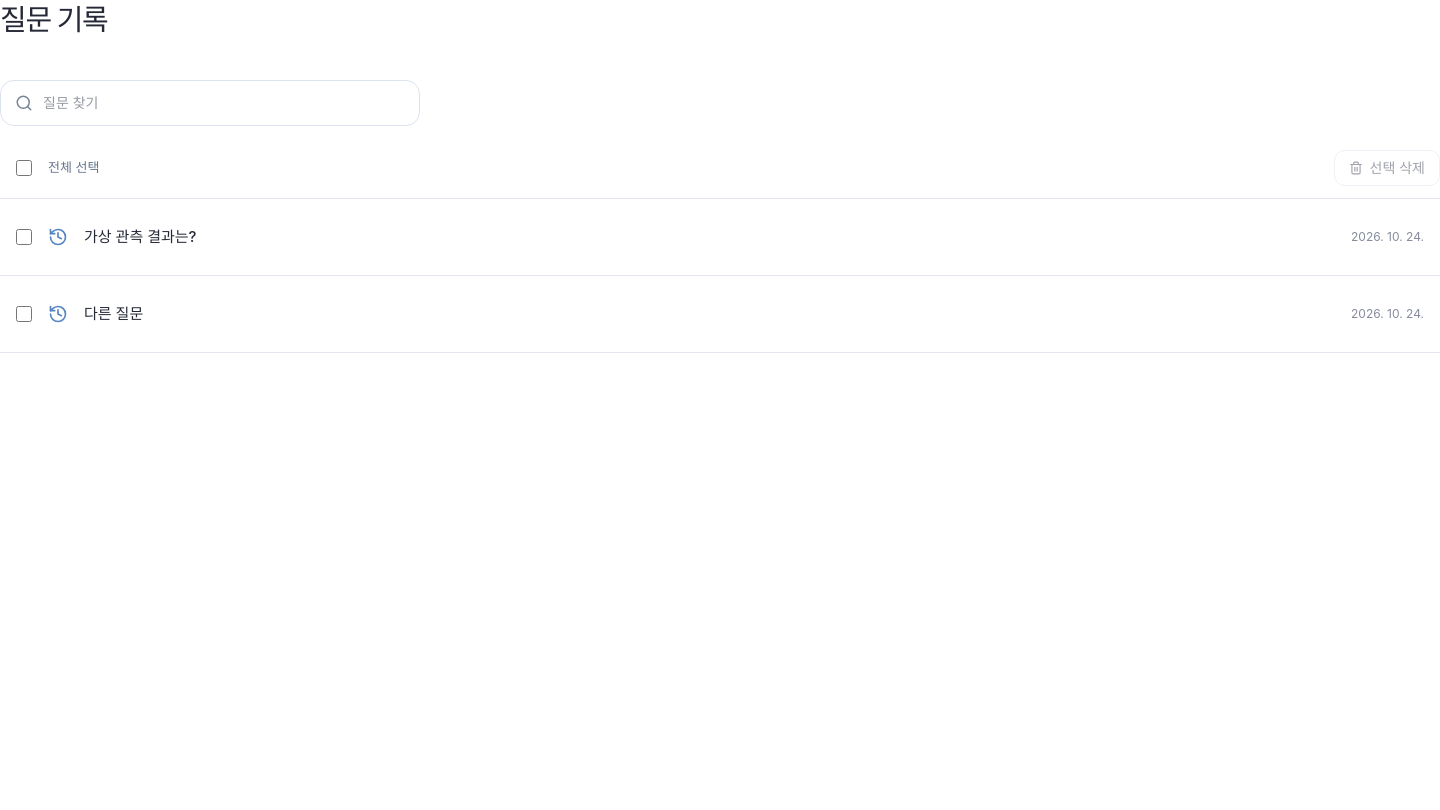
it: 표시된 질문을 체크박스로 함께 삭제하고 실패 항목만 재시도한다
Click the checkbox named "표시된 질문 전체 선택" at (24, 168), box [16, 160, 32, 176]
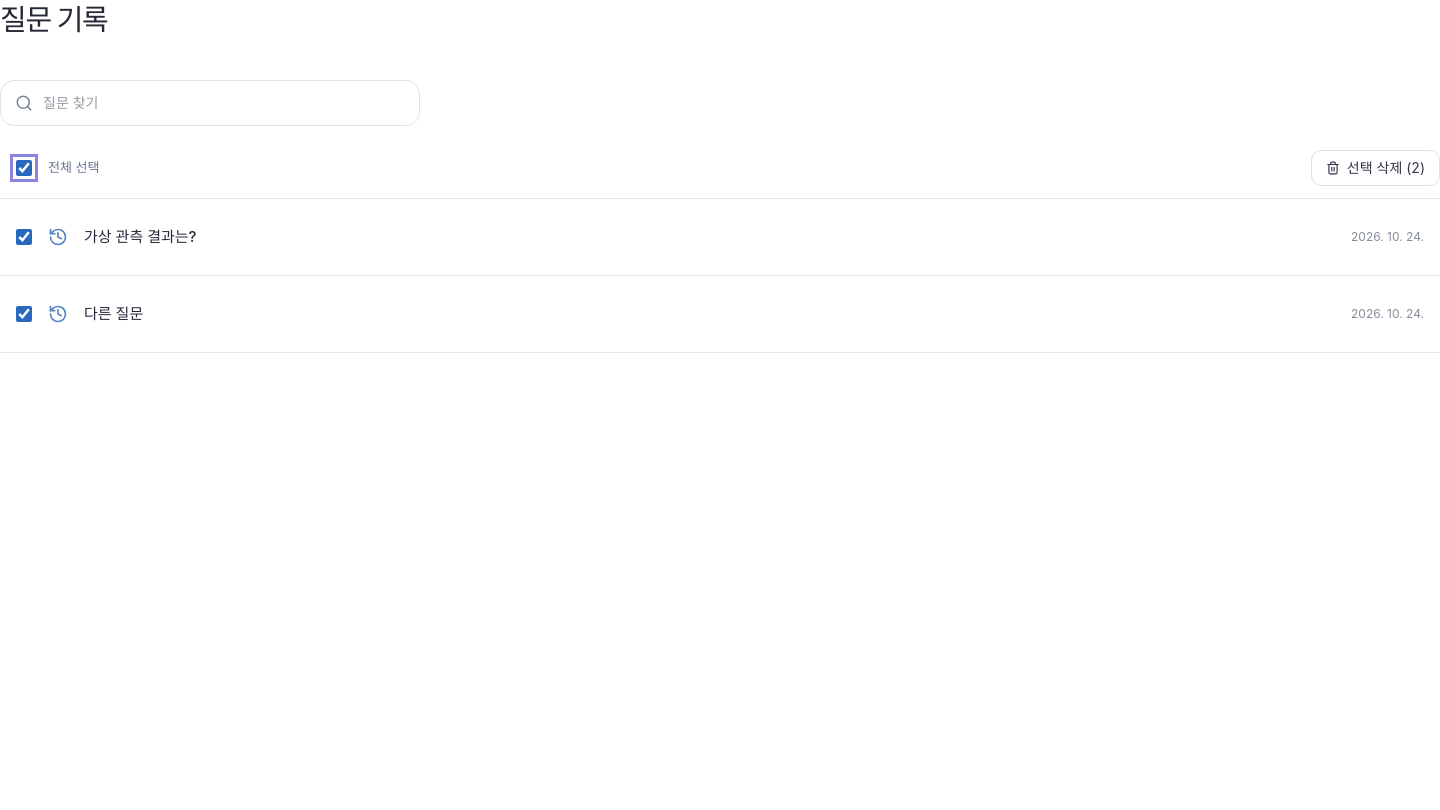
Click the button "선택 삭제 (2)" at (1375, 168), box [1311, 150, 1439, 186]
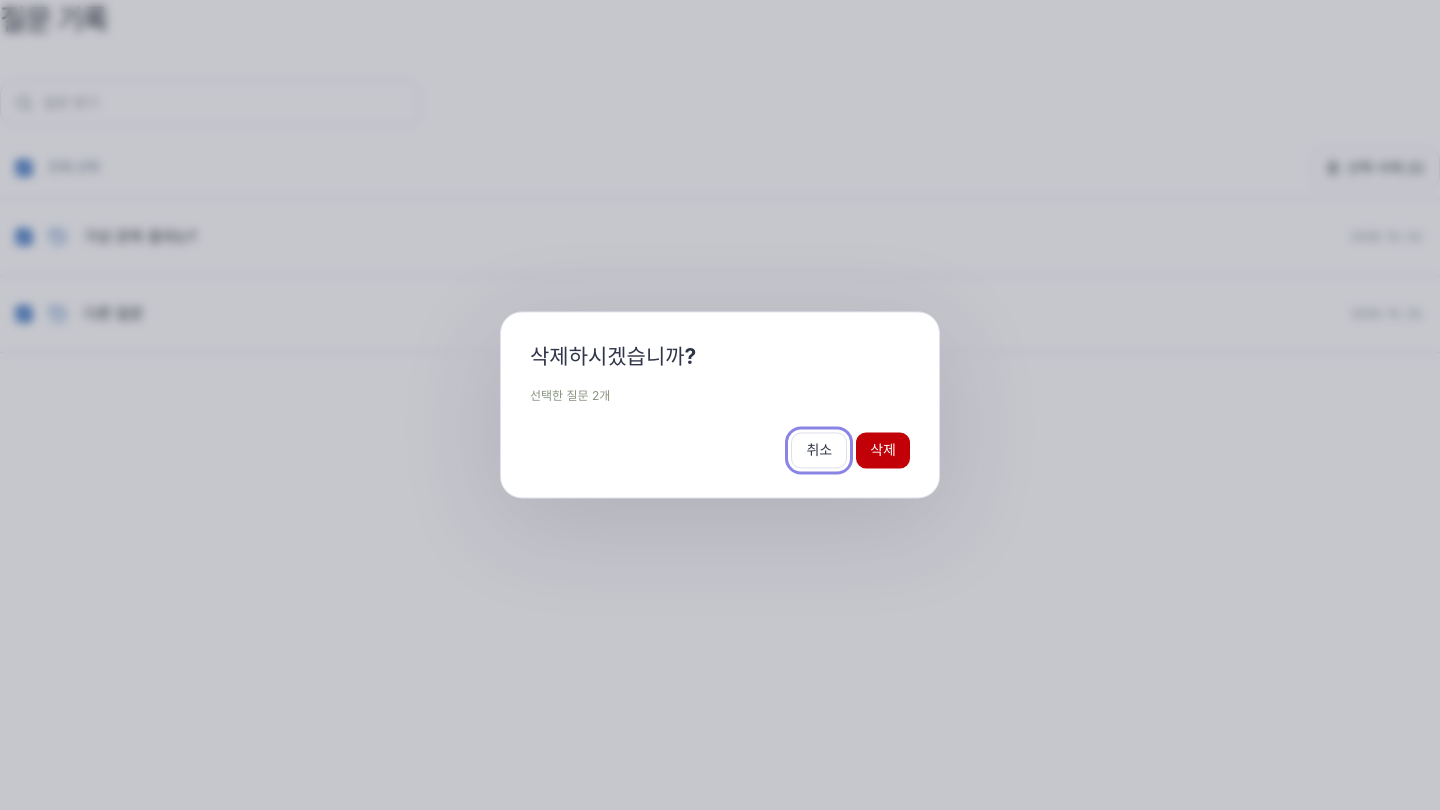
Check: the text "선택한 질문 2개" is shown, box [530, 388, 610, 403]
Click the button "삭제" at (883, 450), box [856, 432, 910, 468]
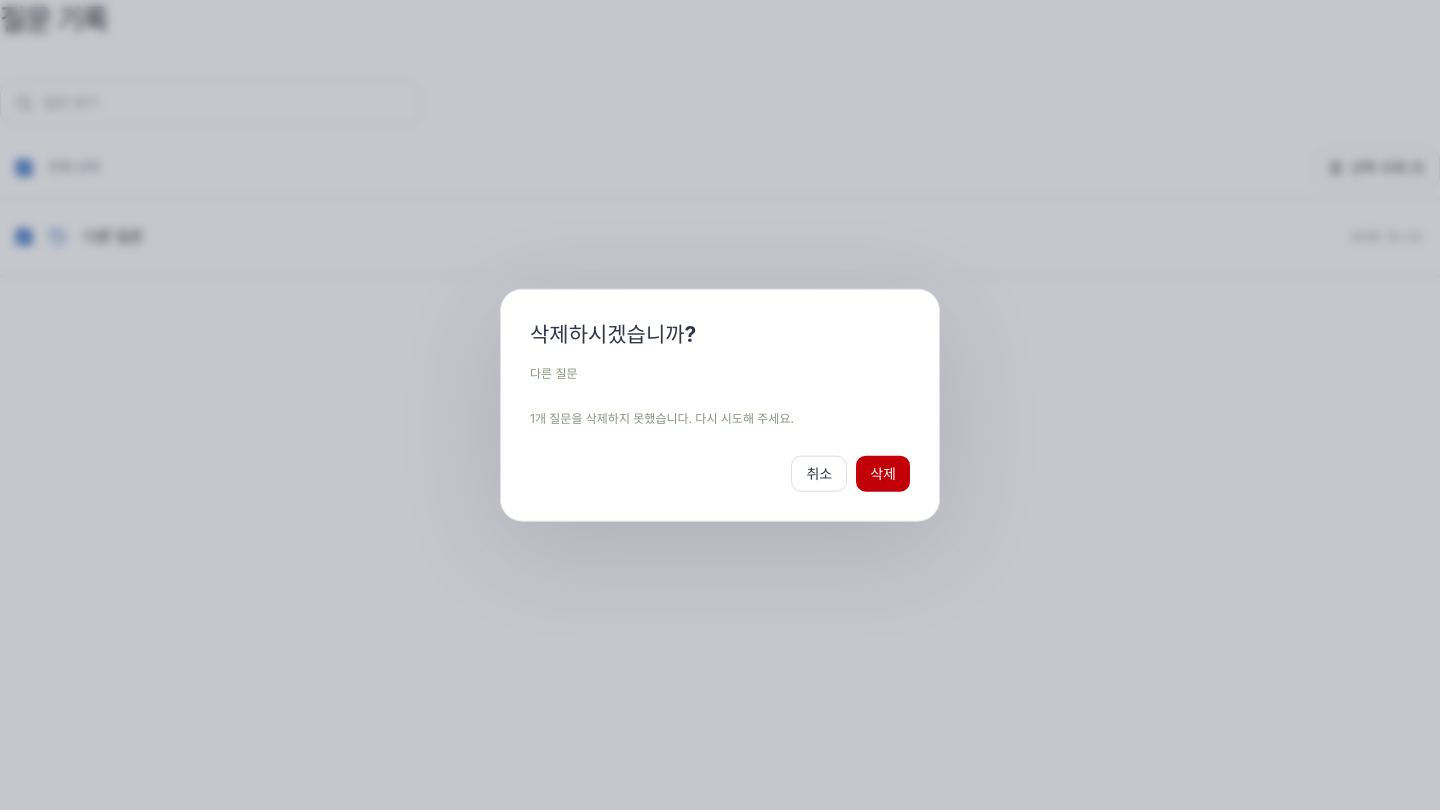
Check: the message shows "1개 질문", box [530, 411, 794, 426]
Click the button "삭제" at (883, 473), box [856, 455, 910, 491]
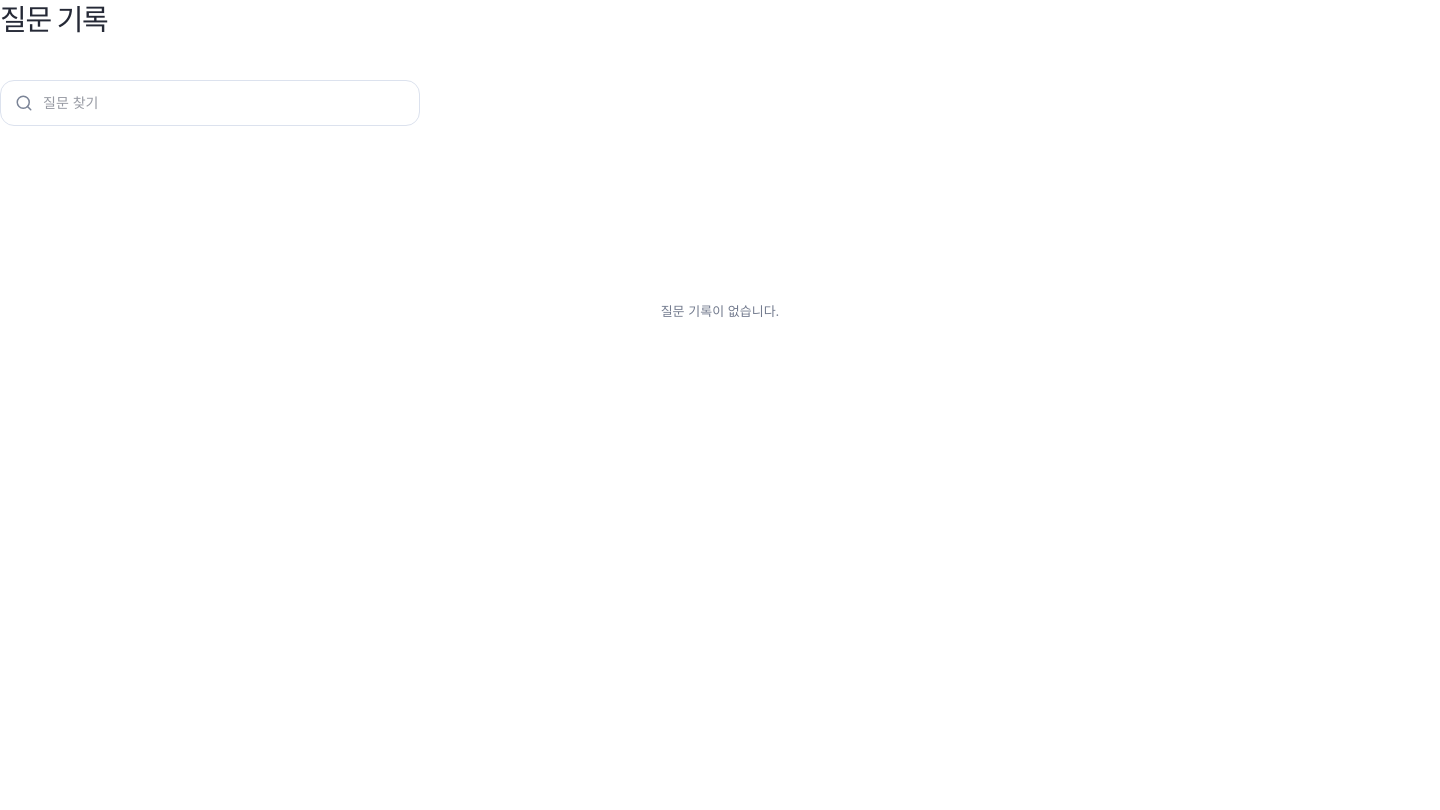
Check: the text "질문 기록이 없습니다." is shown, box [661, 303, 779, 319]
